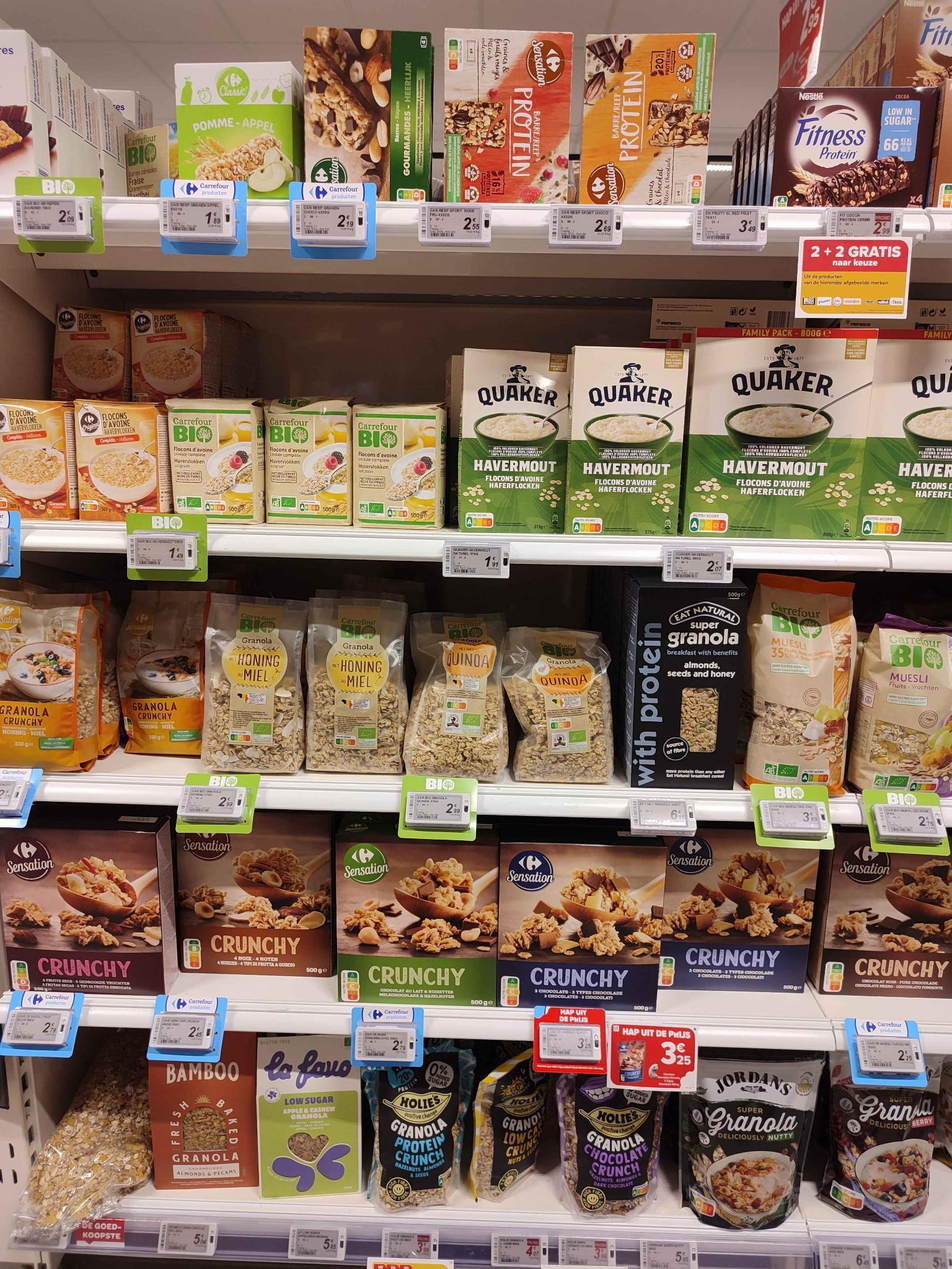nutri_A: (860, 518, 903, 539), (688, 512, 731, 532), (571, 518, 602, 533), (802, 769, 828, 785), (202, 497, 229, 512), (298, 499, 326, 513), (386, 504, 413, 518), (466, 512, 493, 526), (911, 780, 937, 791), (774, 194, 791, 209)
nutri_B: (184, 938, 203, 967)
nutri_C: (831, 1182, 864, 1210), (827, 961, 845, 994), (694, 1194, 717, 1217), (448, 38, 462, 72), (506, 975, 520, 1008), (344, 972, 359, 1002), (662, 957, 676, 985), (227, 730, 253, 743), (335, 732, 355, 746), (448, 698, 467, 712), (551, 719, 572, 728)
nutri_D: (15, 960, 32, 995), (394, 188, 427, 202), (690, 174, 704, 205)
shelf_bottom: (1, 836, 952, 1247)
shelf_middle: (1, 263, 952, 817)
shelf_top: (1, 7, 952, 243)
